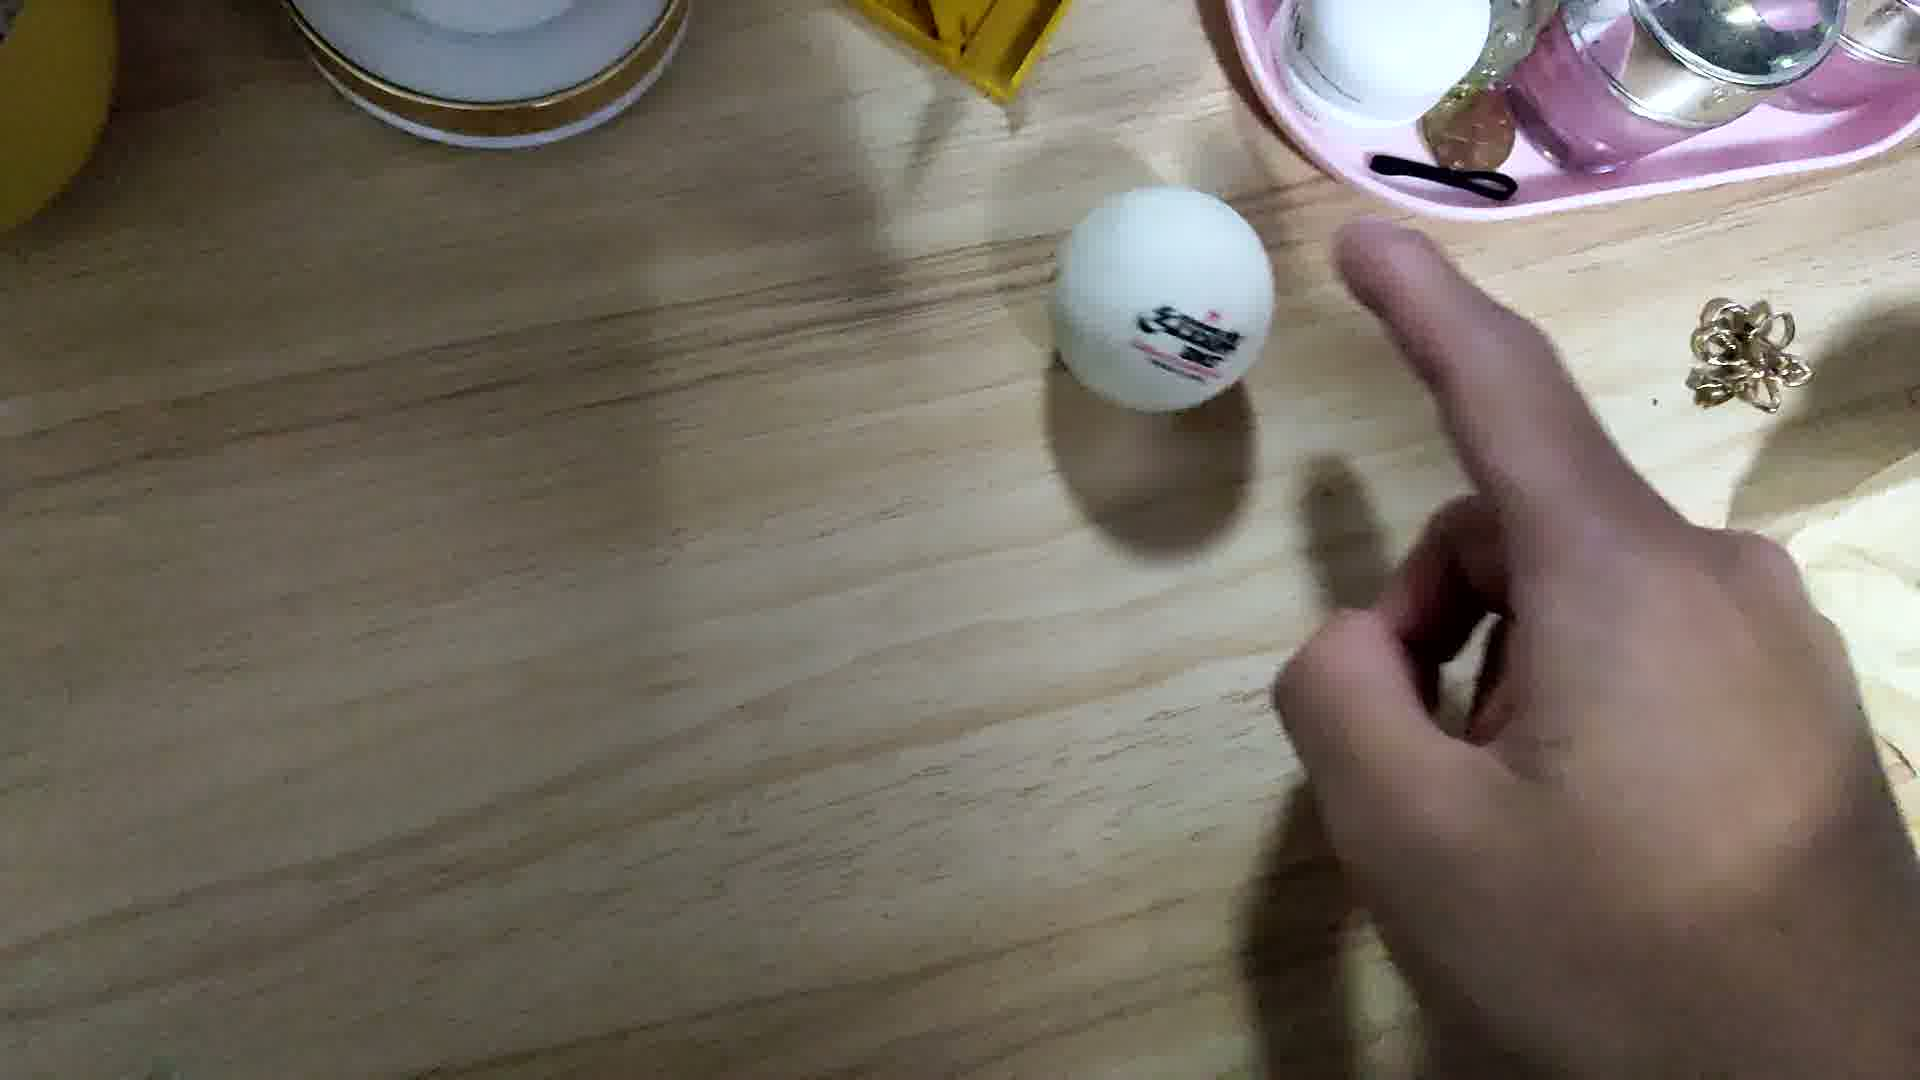Ball: (1051, 187, 1276, 419)
